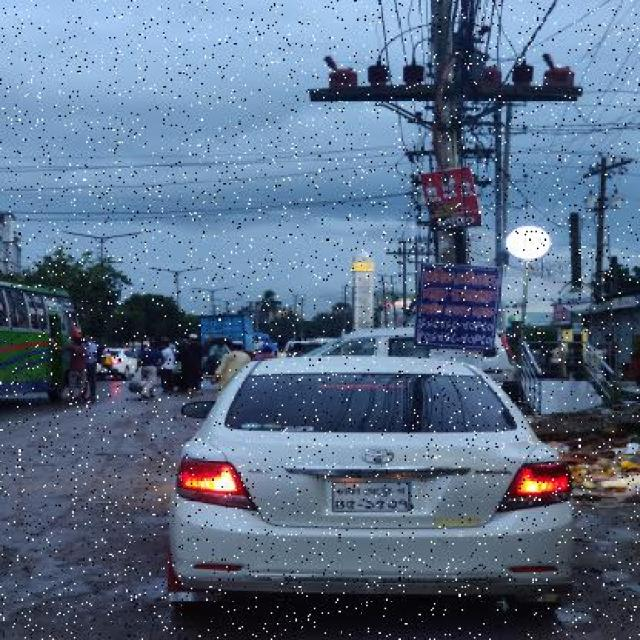numberplate: (331, 478, 418, 514)
